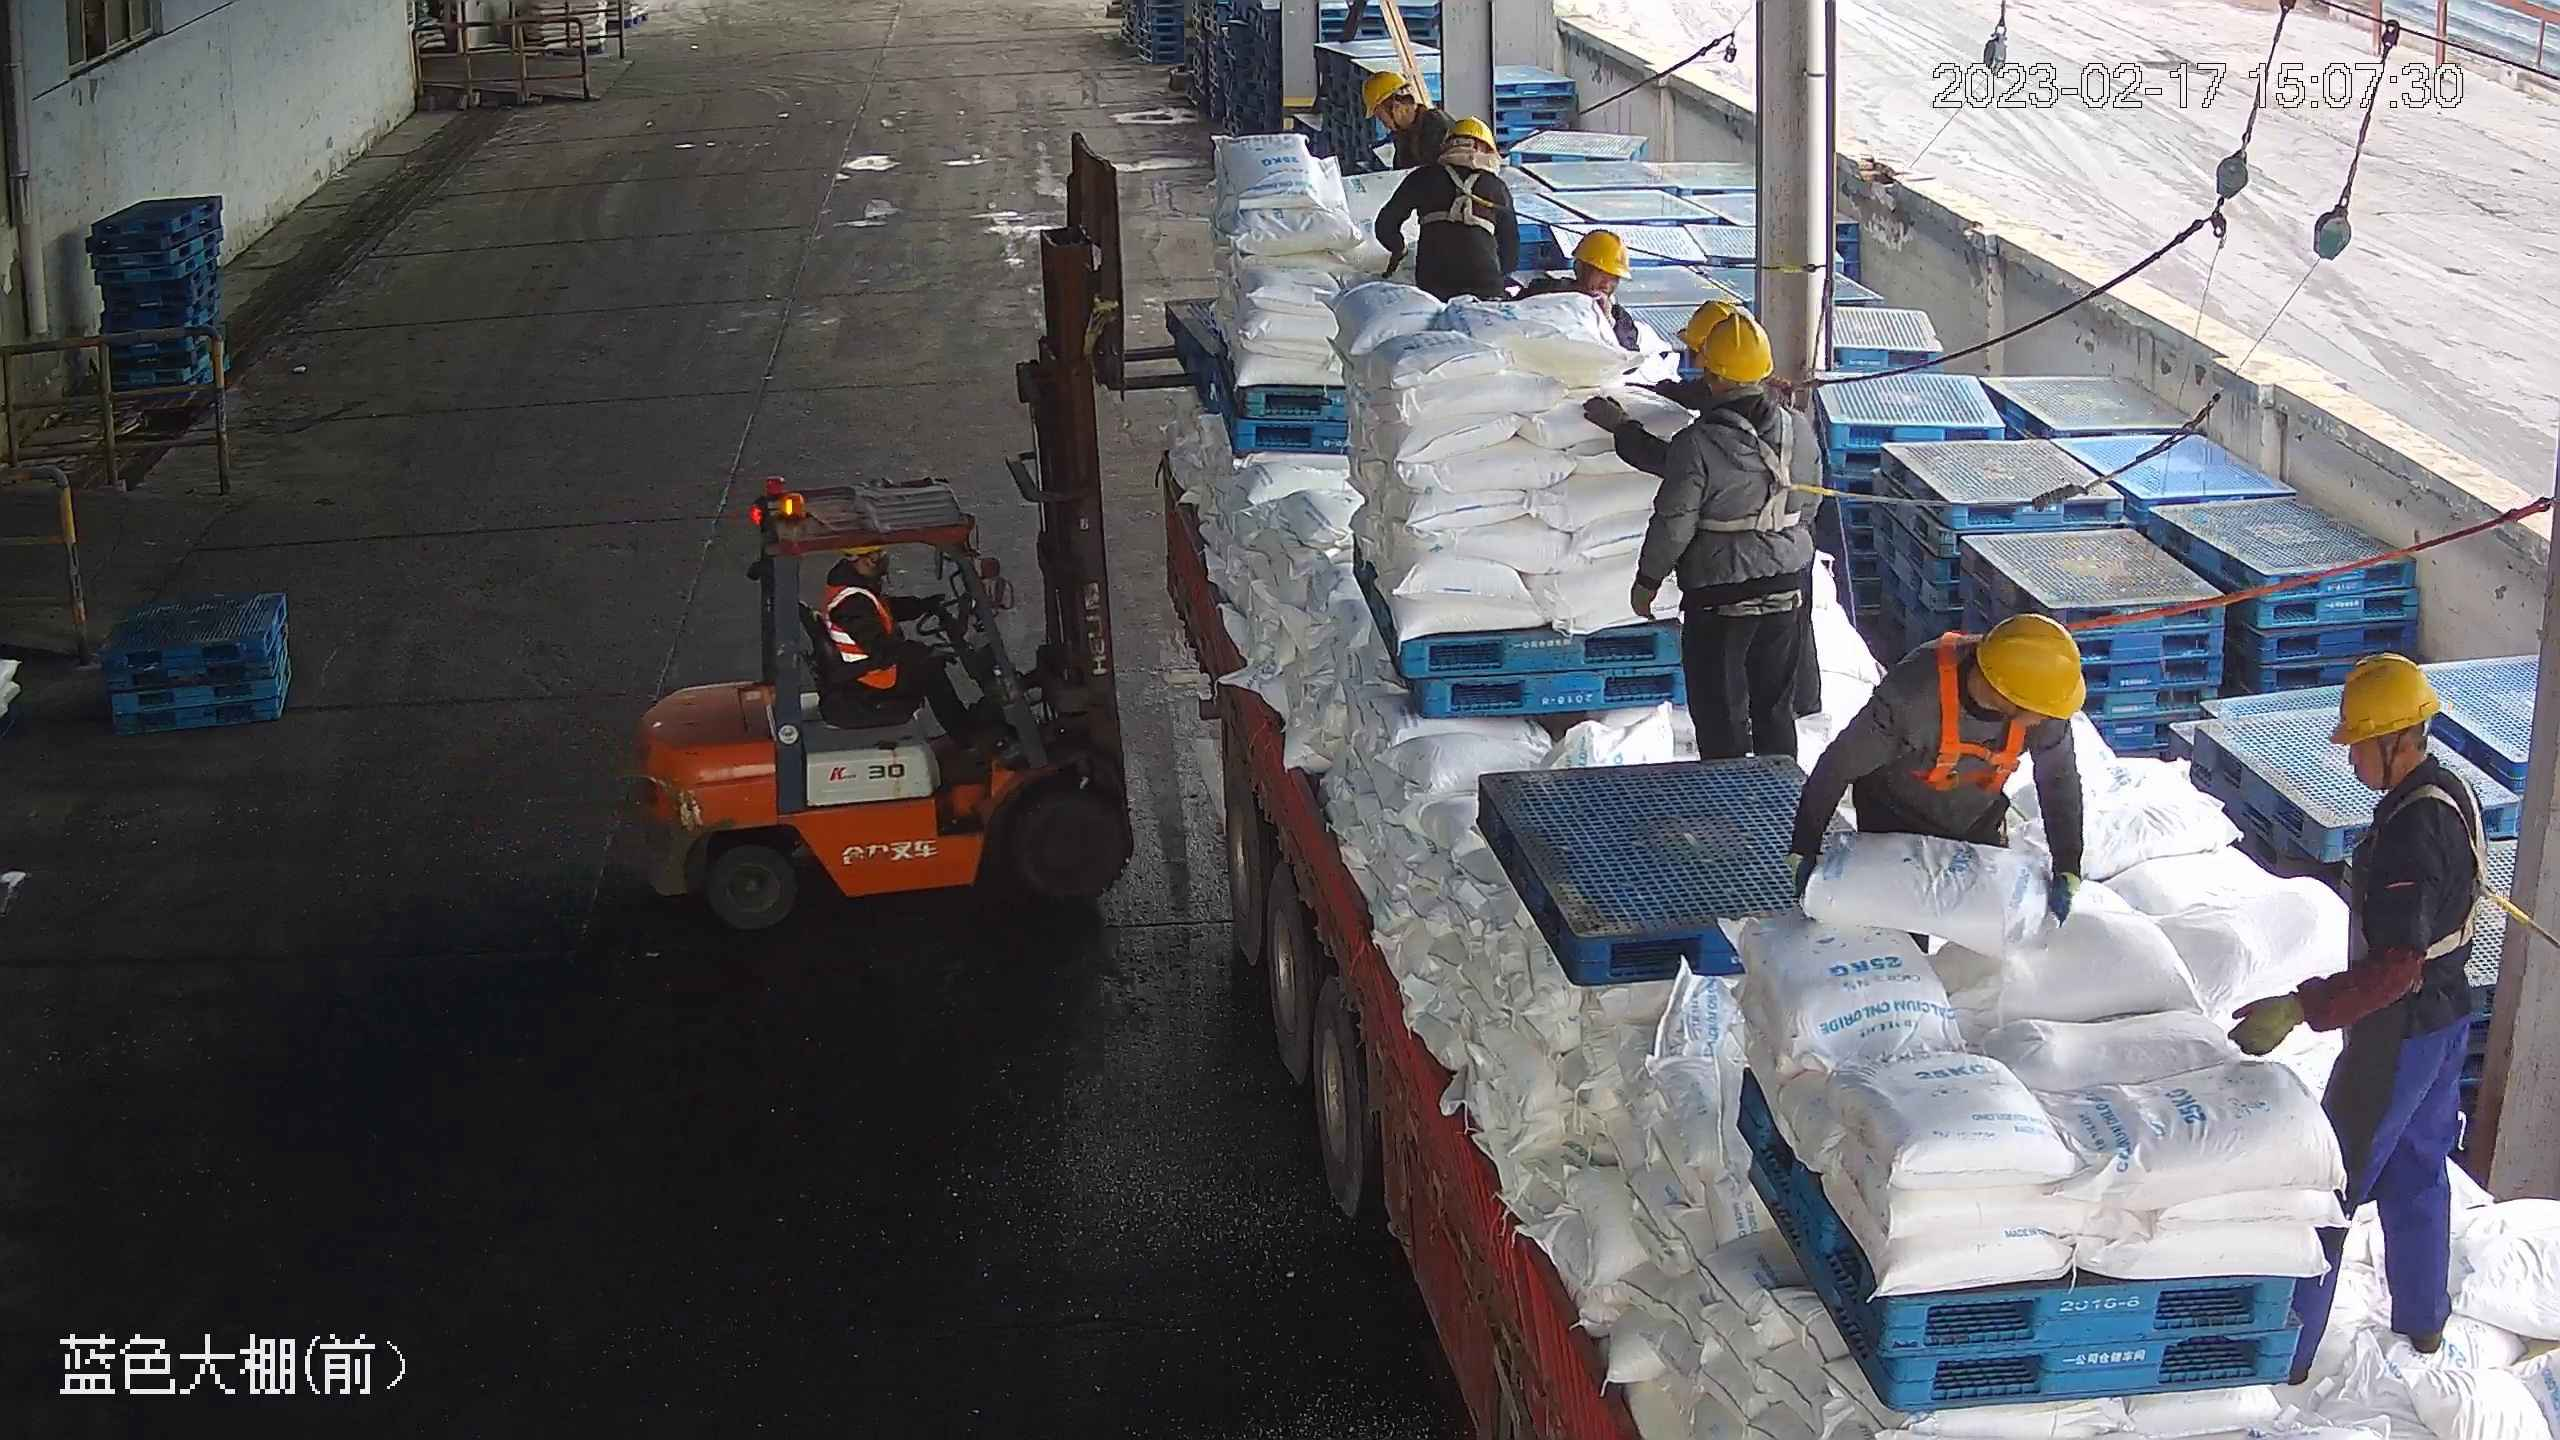belt: (2395, 767, 2522, 967), (1901, 633, 2024, 794), (1696, 403, 1834, 543), (1419, 166, 1503, 237)
head: (2308, 650, 2490, 906), (1891, 611, 2086, 776), (1649, 311, 1815, 486), (1393, 115, 1510, 218), (1361, 72, 1467, 161)
helmet: (1973, 617, 2090, 725), (2325, 656, 2445, 744), (1705, 315, 1776, 386), (1569, 227, 1635, 279), (1670, 300, 1739, 348), (1362, 67, 1415, 114), (1446, 119, 1501, 156)
people: (2229, 650, 2490, 1391), (1781, 613, 2091, 920), (1629, 308, 1825, 757), (812, 545, 990, 745), (1371, 116, 1517, 303)
truck: (1154, 425, 2560, 1440)
